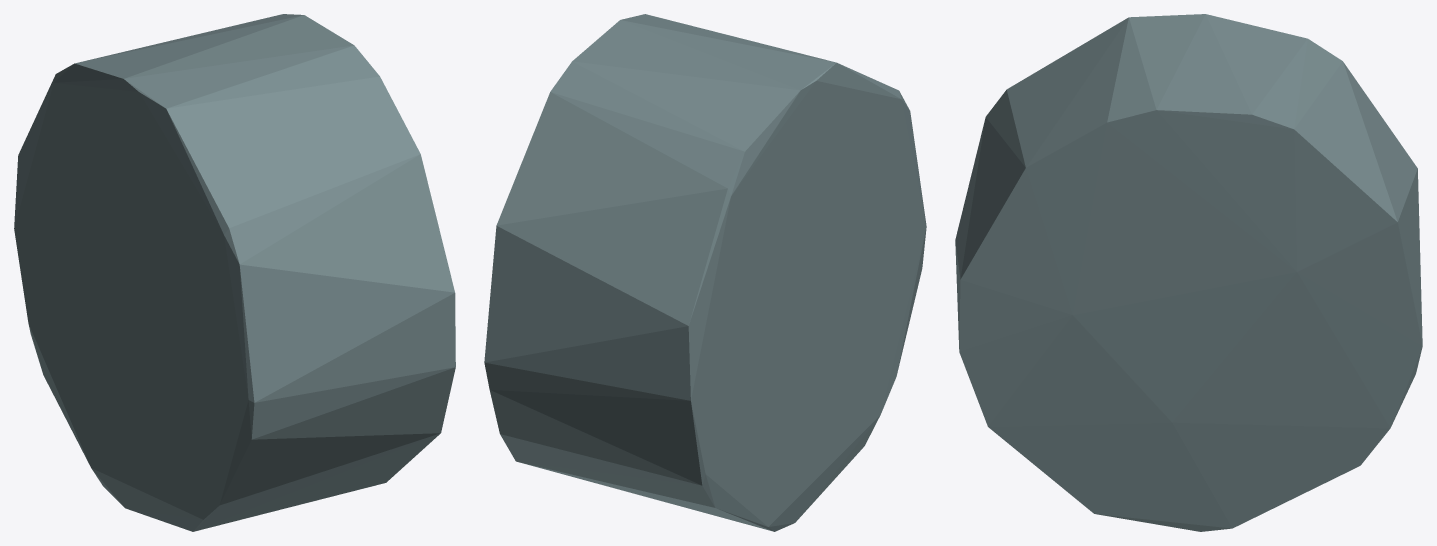
Rendered from wheelAssembly_wheel_rim_a01.glb.
The picture shows the model from 3 angles, left to right: view 1: azimuth 30°, elevation 25°; view 2: azimuth 150°, elevation 25°; view 3: azimuth 270°, elevation 25°; orthographic projection. The views are drawn at different scales.
Visible parts, largest first — view 1: geometry_0; view 2: geometry_0; view 3: geometry_0.
Boxes of the visible parts, x1,y1,x2,y2 form: geometry_0: [14, 14, 455, 531]; geometry_0: [484, 14, 926, 531]; geometry_0: [955, 14, 1422, 531].
Size of the model in its own units: 0.2422 by 0.4748 by 0.4755.
